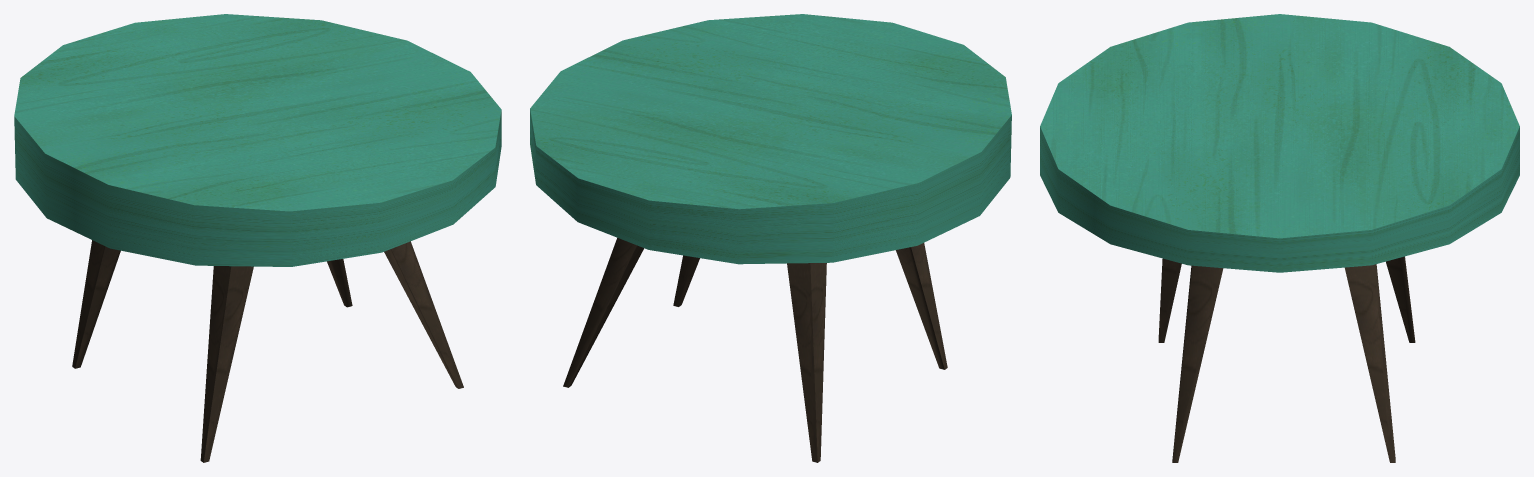
Rendered from table.glb.
The picture shows the model from 3 angles, left to right: view 1: azimuth 30°, elevation 25°; view 2: azimuth 150°, elevation 25°; view 3: azimuth 270°, elevation 25°; orthographic projection. The views are drawn at different scales.
Visible parts, largest first — view 1: Object_3, Object_2; view 2: Object_3, Object_2; view 3: Object_3, Object_2.
Boxes of the visible parts, bbox=[...] form: Object_3: bbox=[14, 14, 501, 266]; Object_2: bbox=[72, 240, 463, 462]; Object_3: bbox=[530, 14, 1011, 264]; Object_2: bbox=[563, 238, 947, 462]; Object_3: bbox=[1040, 14, 1519, 272]; Object_2: bbox=[1158, 256, 1415, 462].
Size of the model in its own units: 86.11 by 55.55 by 86.13.
2 materials, 2 textured.
